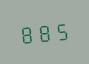eight: (36, 20, 52, 43), (18, 22, 34, 44)
five: (53, 19, 69, 41)
